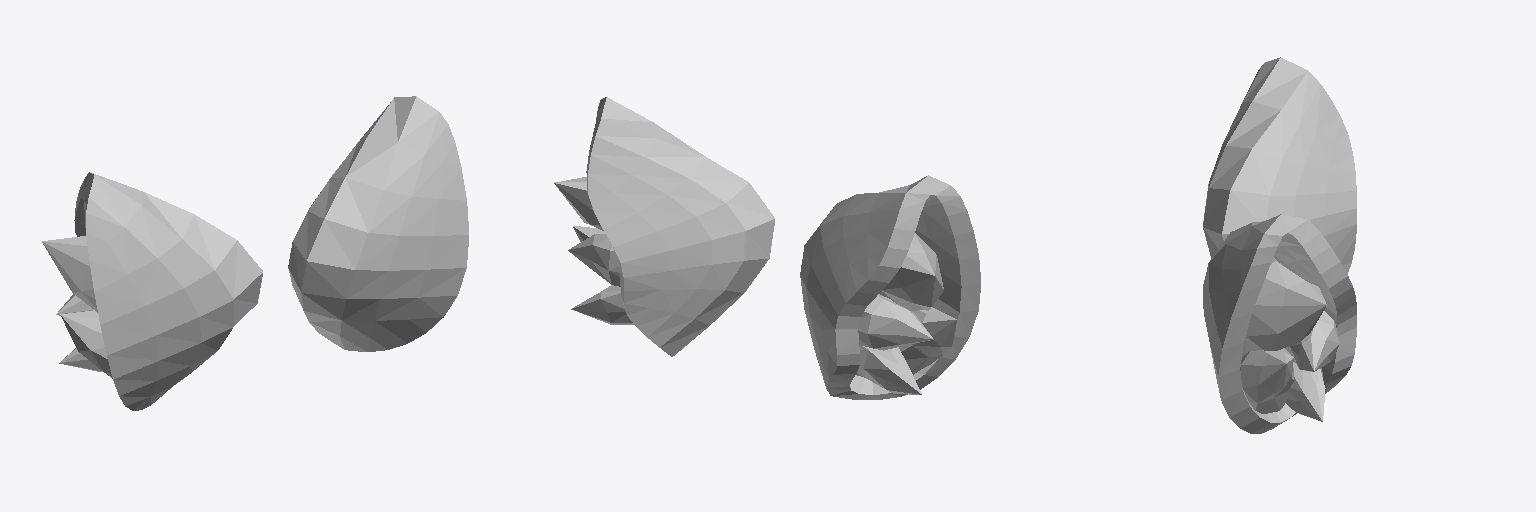
3 renders of one model, left to right at view 1: azimuth 30°, elevation 25°; view 2: azimuth 150°, elevation 25°; view 3: azimuth 270°, elevation 25°, orthographic.
Parts seen in each view (by area): view 1: Handle1; view 2: Handle1; view 3: Handle1.
Boxes of the visible parts, x1=… form: Handle1: x1=42, y1=96, x2=468, y2=410; Handle1: x1=554, y1=97, x2=980, y2=399; Handle1: x1=1203, y1=57, x2=1356, y2=433.
Bounding box in the file's own units: 1.79 × 1.07 × 0.6217.